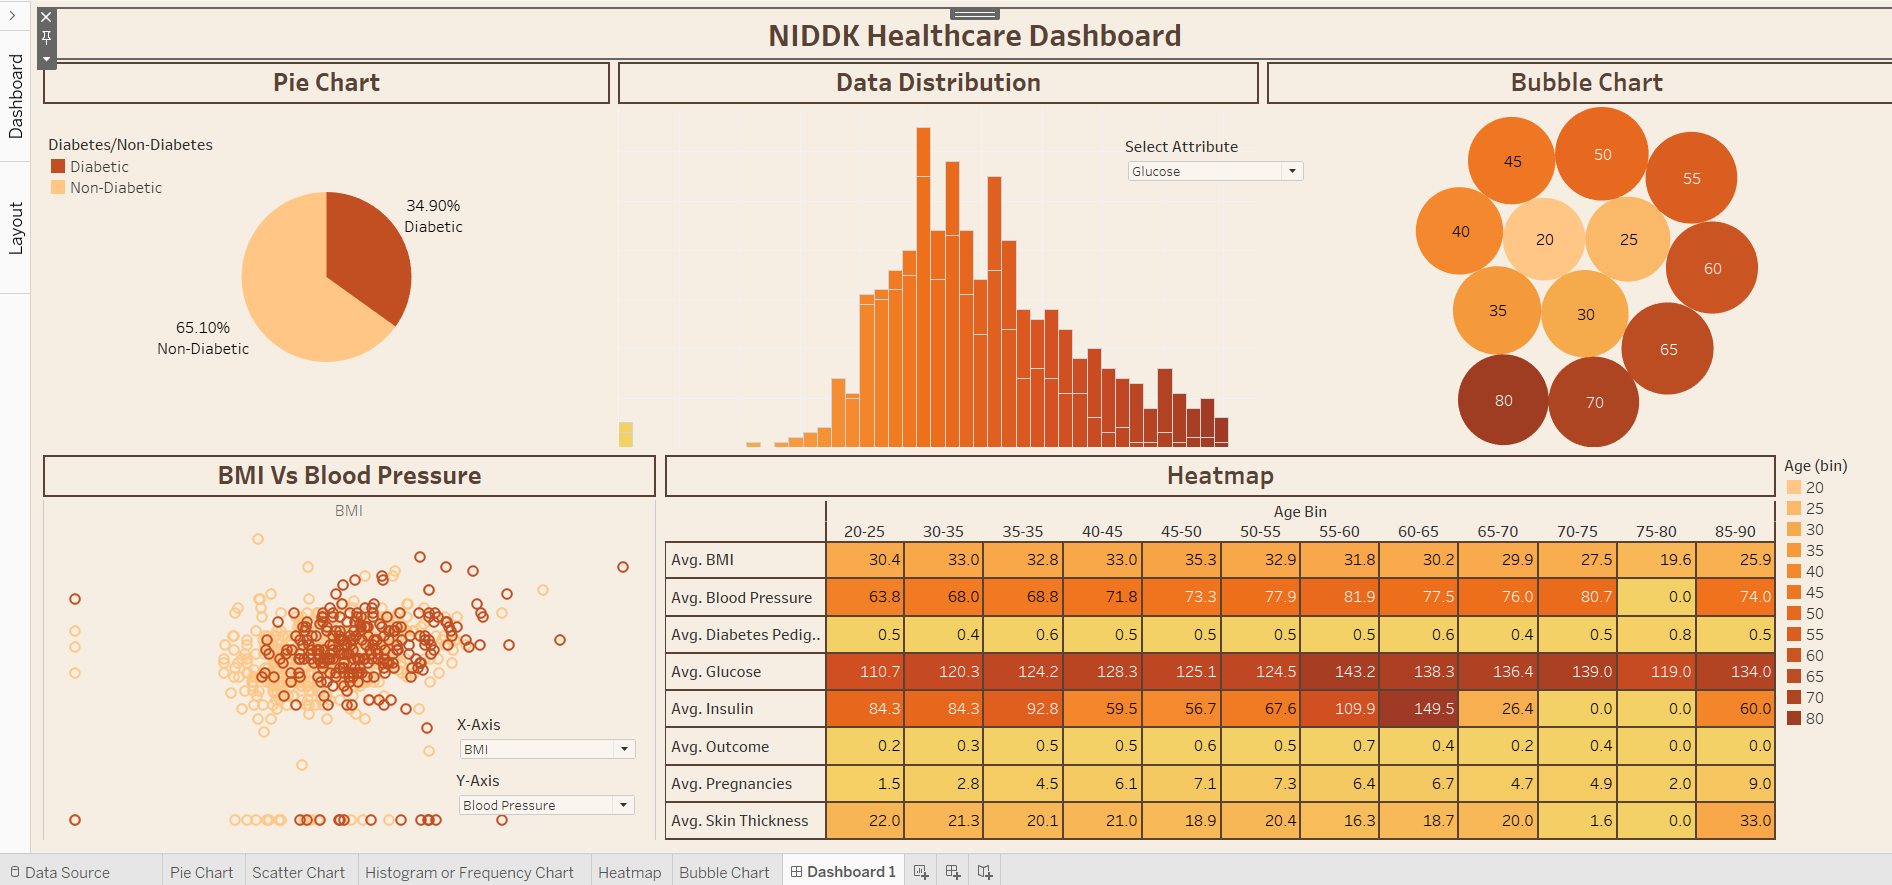

This screenshot's page, from the dashboard's own definition file:
{"tool":"tableau","page":{"name":"Dashboard 1","canvas":[1000,1000],"units":"permille","ordinal":0},"visuals":[{"type":"title","box":[4.2,9.4,991.5,57.6]},{"type":"worksheet","title":"Pie Chart","mark":"Pie","box":[4.2,67,304.5,461.8]},{"type":"worksheet","title":"Histogram or Frequency Chart","mark":"Automatic","rows":["Calculation_1579074644170219526"],"cols":["Select Variable (bin)"],"box":[308.8,67,343.6,461.8]},{"type":"worksheet","title":"Bubble Chart","mark":"Circle","box":[652.3,67,343.4,461.8]},{"type":"legend","title":"Scatter Chart","param":"[federated.11mebbc179ien61cj5dad1e9g8p6].[none:Calculation_1579074644143120384:n","box":[9.1,156.3,111,75.2]},{"type":"parameter","param":"[Parameters].[Parameter 3]","box":[579.4,158.6,96.6,56.4]},{"type":"worksheet","title":"Scatter Chart","mark":"Shape","rows":["Calculation_1579074644150890501"],"cols":["Calculation_1579074644150759428"],"box":[4.2,528.8,328.7,461.8]},{"type":"worksheet","title":"Heatmap","mark":"Square","cols":["Calculation_1579074644199239688"],"box":[332.9,528.8,593.3,461.8]},{"type":"legend","title":"Bubble Chart","param":"[federated.11mebbc179ien61cj5dad1e9g8p6].[none:Age (bin):ok]","box":[926.3,528.8,69.5,461.8]},{"type":"parameter","param":"[Parameters].[Parameter 1]","box":[225.7,837.8,96.6,56.4]},{"type":"parameter","param":"[Parameters].[Parameter 2]","box":[225.1,903.6,96.6,56.4]}]}

Visuals, with their boxes on the dashboard's canvas, which has no fixed pixel size, in thousandths of its width and height (x1, y1, x2, y2). These are canvas units, not pixel positions in the 1892x885 screenshot, which may show the page scaled, cropped or inside an application window:
title: (left=4, top=9, right=996, bottom=67)
"Pie Chart" worksheet (Pie marks): (left=4, top=67, right=309, bottom=529)
"Histogram or Frequency Chart" worksheet: (left=309, top=67, right=652, bottom=529)
"Bubble Chart" worksheet (Circle marks): (left=652, top=67, right=996, bottom=529)
"Scatter Chart" legend: (left=9, top=156, right=120, bottom=232)
parameter: (left=579, top=159, right=676, bottom=215)
"Scatter Chart" worksheet (Shape marks): (left=4, top=529, right=333, bottom=991)
"Heatmap" worksheet (Square marks): (left=333, top=529, right=926, bottom=991)
"Bubble Chart" legend: (left=926, top=529, right=996, bottom=991)
parameter: (left=226, top=838, right=322, bottom=894)
parameter: (left=225, top=904, right=322, bottom=960)
